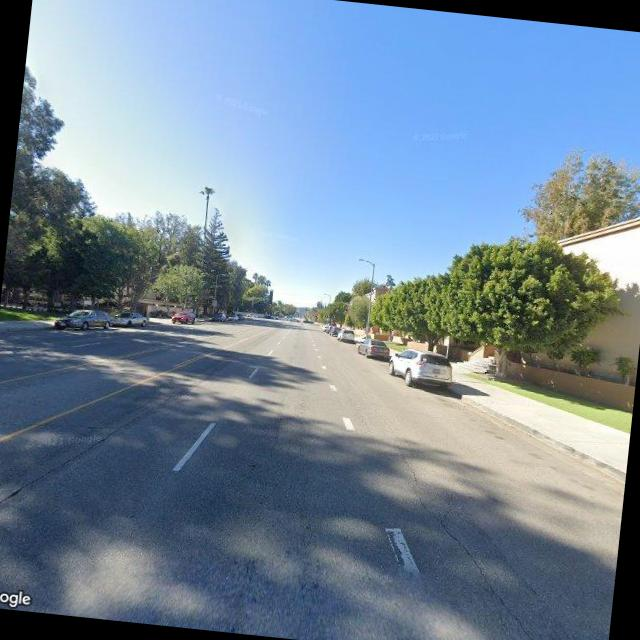pothole: (370, 423, 561, 640)
